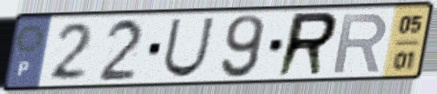2: (96, 16, 146, 84), (46, 20, 96, 84)
9: (220, 12, 267, 80)
R: (273, 10, 342, 80), (330, 12, 390, 76)
U: (160, 16, 218, 80)
